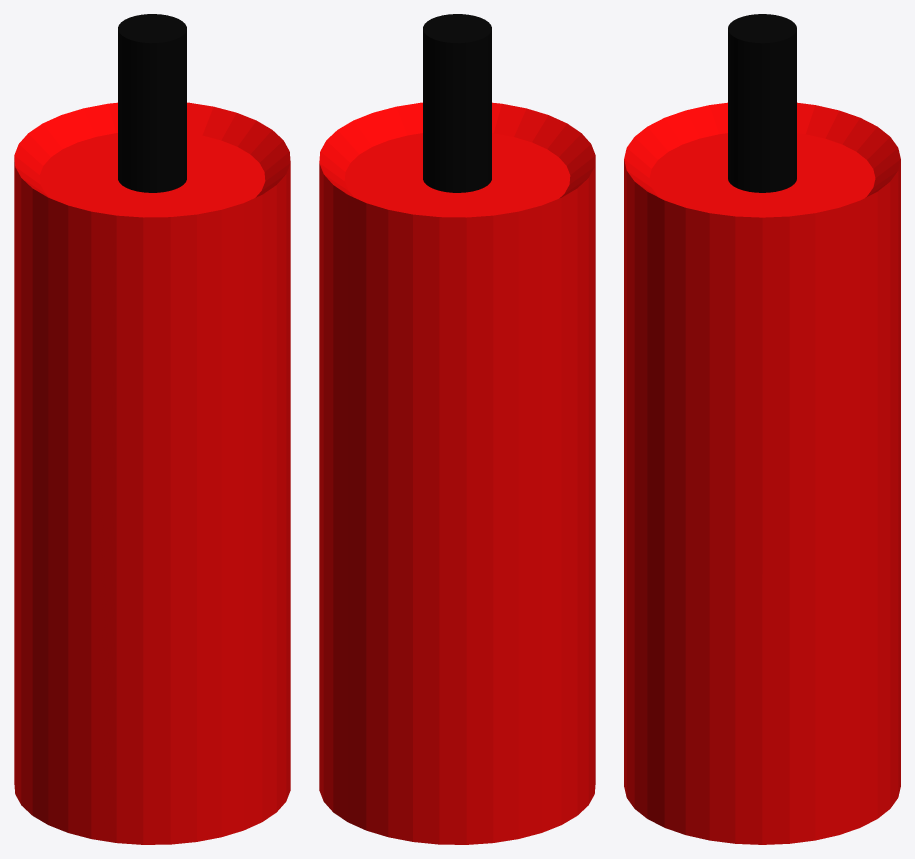
Rendered from Dynamite.fbx.
3 renders of one model, left to right at view 1: azimuth 30°, elevation 25°; view 2: azimuth 150°, elevation 25°; view 3: azimuth 270°, elevation 25°, orthographic.
Visible parts, largest first — view 1: Cylinder, Cylinder.001; view 2: Cylinder, Cylinder.001; view 3: Cylinder, Cylinder.001.
Boxes of the visible parts, x1,y1,x2,y2 form: Cylinder: [14, 102, 290, 844]; Cylinder.001: [118, 14, 186, 192]; Cylinder: [319, 102, 595, 844]; Cylinder.001: [423, 14, 491, 192]; Cylinder: [624, 102, 900, 844]; Cylinder.001: [728, 14, 796, 192].
Bounding box in the file's own units: 200 × 604 × 200.
